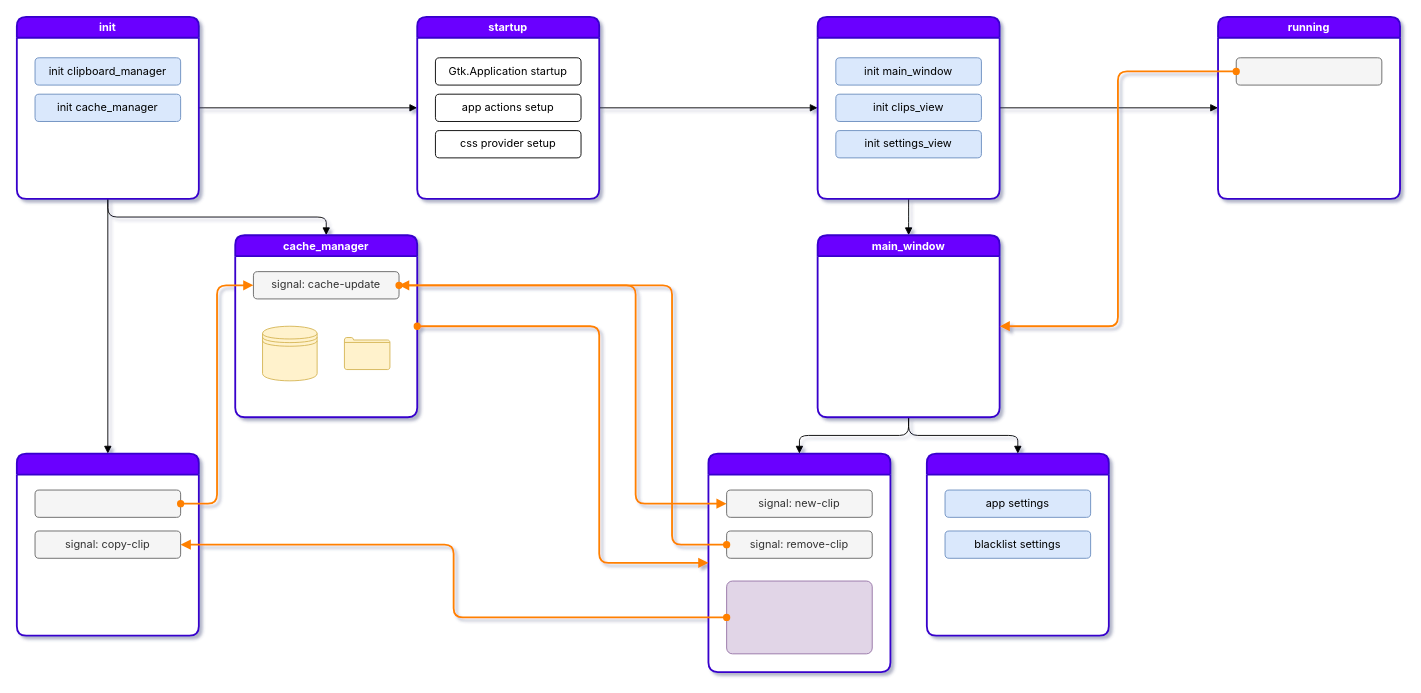
This 1421x693 diagram has some shape labels left out. Here are the shapes that lost their labels. From the top down, the box of each, then its label:
(1235, 57, 1382, 85): signal: open-main-window
(816, 15, 1000, 199): activate
(262, 325, 317, 381): clipsdb
(344, 337, 390, 370): cache_dir
(34, 489, 181, 517): signal: owner-changed
(15, 452, 199, 636): clipboard_manager
(707, 452, 891, 672): clips_view
(925, 452, 1109, 636): settings_view
(726, 580, 872, 654): clips_list
